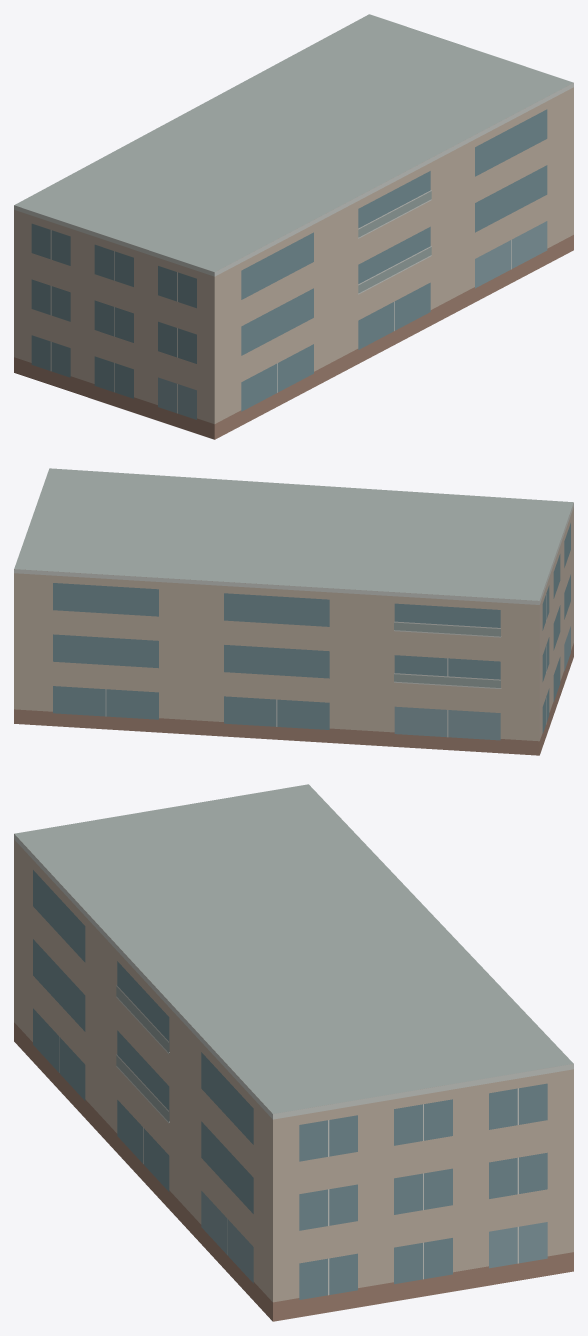
Rendered from survey-upis-32834153.glb.
3 renders of one model, top to bottom at view 1: azimuth 30°, elevation 25°; view 2: azimuth 150°, elevation 25°; view 3: azimuth 270°, elevation 25°, orthographic. The views are drawn at different scales.
Parts seen in each view (by area): view 1: survey-upis-32834153.tmp; view 2: survey-upis-32834153.tmp; view 3: survey-upis-32834153.tmp.
Boxes of the visible parts, x1,y1,x2,y2 form: survey-upis-32834153.tmp: [14, 14, 573, 439]; survey-upis-32834153.tmp: [14, 468, 573, 755]; survey-upis-32834153.tmp: [14, 784, 573, 1321].
Size of the model in its own units: 31.18 by 9.15 by 22.37.
